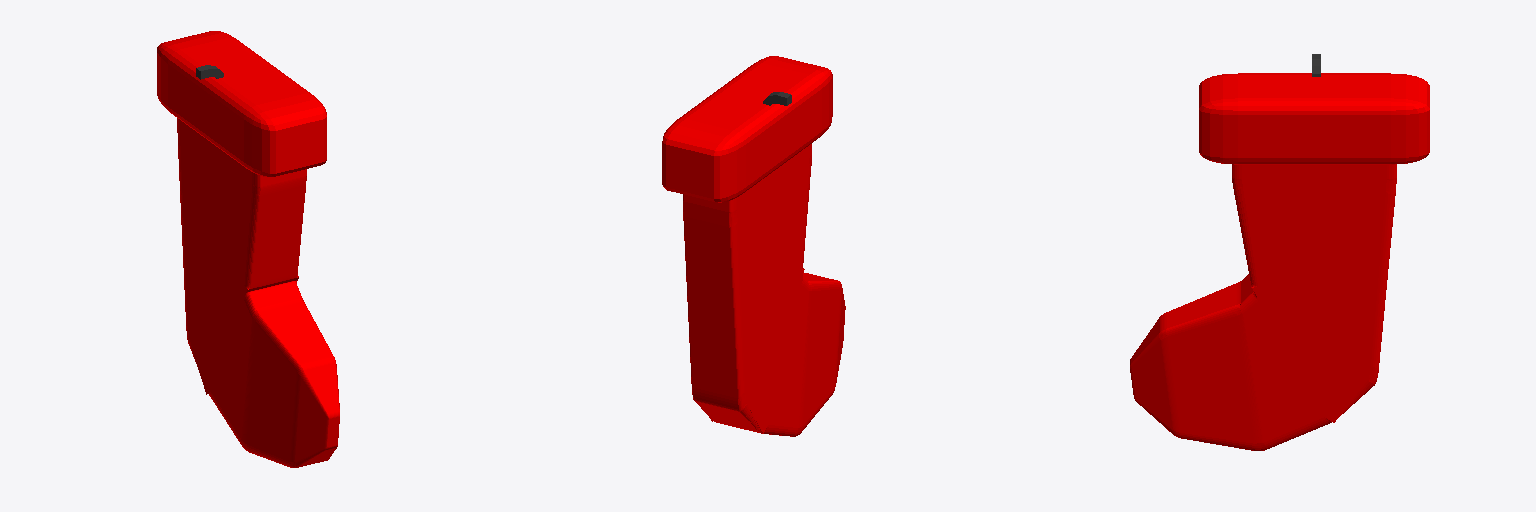
Rendered from stocking.obj.
3 views of the same model, side by side, from view 1: azimuth 30°, elevation 25°; view 2: azimuth 150°, elevation 25°; view 3: azimuth 270°, elevation 25° (orthographic).
Visible parts, largest first — view 1: Cube.004_Cube.006; view 2: Cube.004_Cube.006; view 3: Cube.004_Cube.006.
Boxes of the visible parts, x1=… form: Cube.004_Cube.006: x1=157, y1=31, x2=339, y2=467; Cube.004_Cube.006: x1=662, y1=56, x2=845, y2=436; Cube.004_Cube.006: x1=1130, y1=54, x2=1429, y2=450.
Size of the model in its own units: 0.071 by 0.3135 by 0.2334.